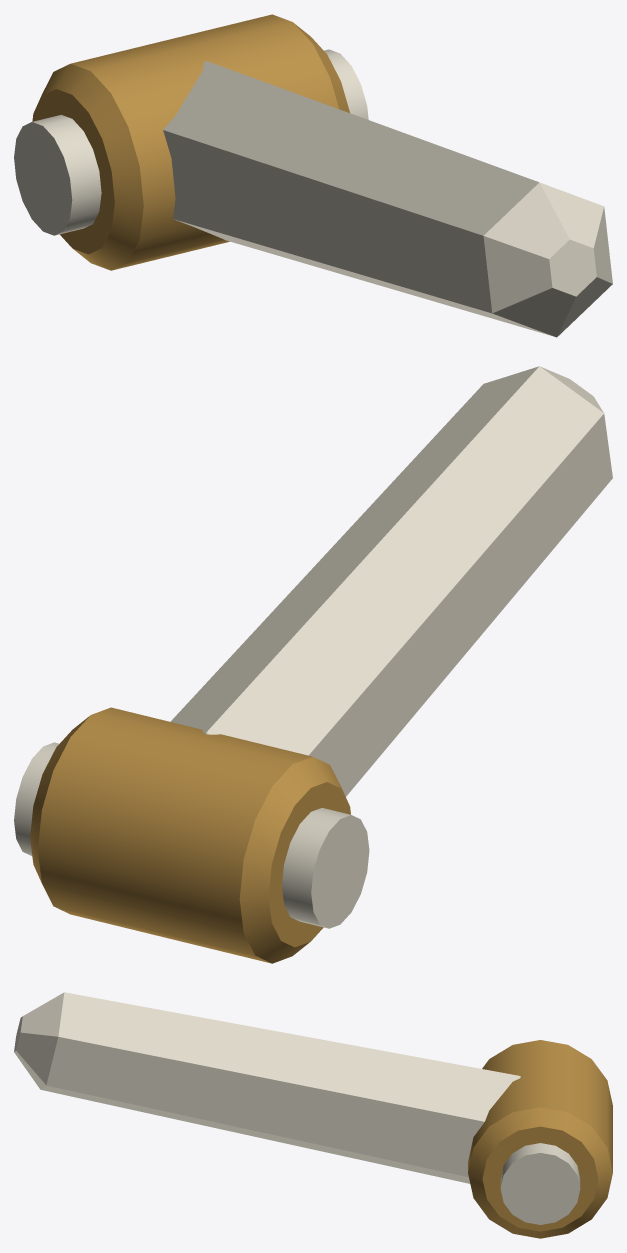
The model's file is rm2_tool_fore.obj.
3 renders of one model, top to bottom at view 1: azimuth 30°, elevation 25°; view 2: azimuth 150°, elevation 25°; view 3: azimuth 270°, elevation 25°, orthographic. The views are drawn at different scales.
Visible parts, largest first — view 1: rm2_tool_fore; view 2: rm2_tool_fore; view 3: rm2_tool_fore.
Part boxes in pixels (bbox=[...]): rm2_tool_fore: bbox=[14, 14, 612, 337]; rm2_tool_fore: bbox=[14, 366, 612, 963]; rm2_tool_fore: bbox=[14, 992, 612, 1238].
Bounding box in the file's own units: 0.081 × 0.0809 × 0.2065.
